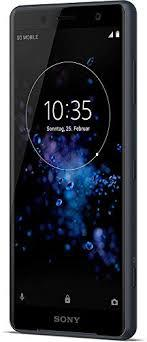Smartphone: (11, 12, 130, 338)
